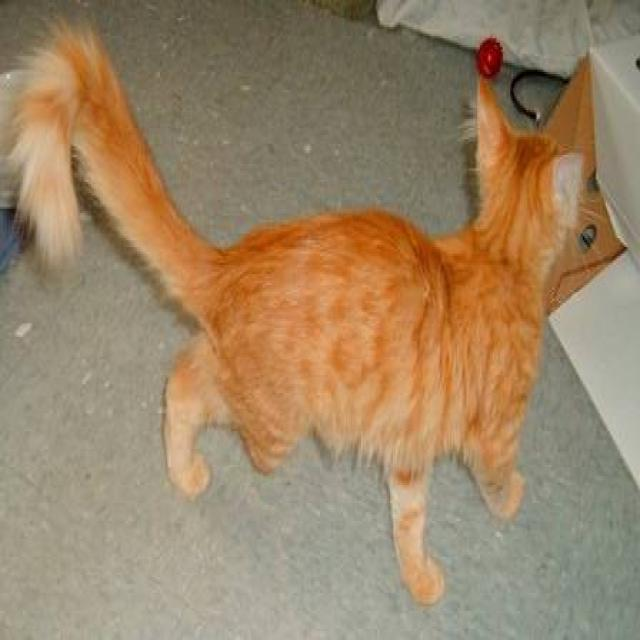cat: (6, 11, 584, 606)
